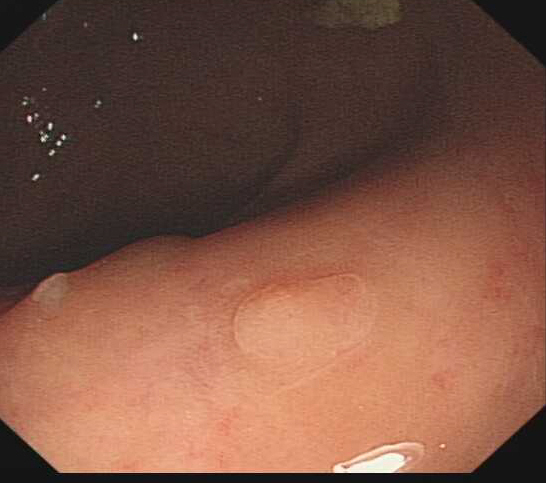others: (227, 272, 377, 375)
